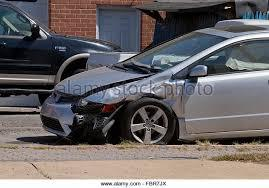fender-dent: (93, 74, 174, 103)
front-bumper-dent: (33, 97, 93, 131)
